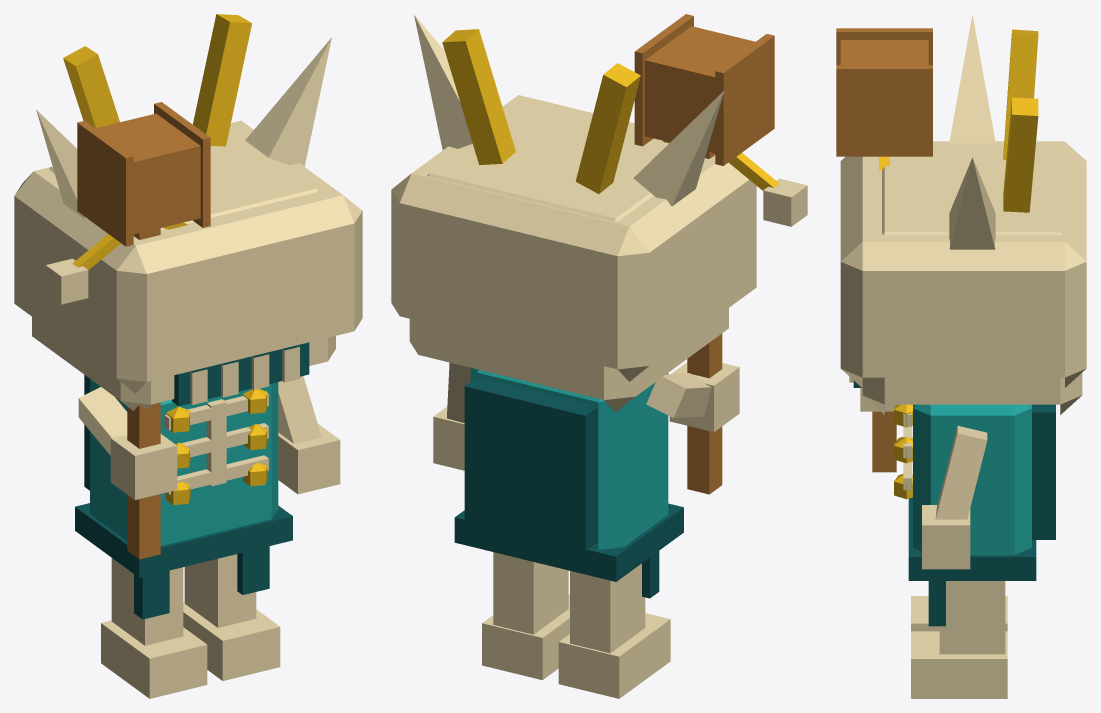
The model's file is weakener_r5.glb.
3 renders of one model, left to right at view 1: azimuth 30°, elevation 25°; view 2: azimuth 150°, elevation 25°; view 3: azimuth 270°, elevation 25°, orthographic. The views are drawn at different scales.
Visible parts, largest first — view 1: weakener_r5_mesh; view 2: weakener_r5_mesh; view 3: weakener_r5_mesh.
Boxes of the visible parts, bbox=[...] form: weakener_r5_mesh: bbox=[14, 14, 362, 698]; weakener_r5_mesh: bbox=[391, 14, 807, 698]; weakener_r5_mesh: bbox=[836, 14, 1086, 698].
Size of the model in its own units: 0.8901 by 1.6 by 0.6039.
Materials: 1 (1 with a texture image).
